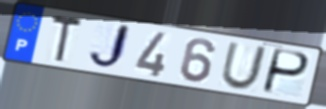4: (132, 30, 168, 78)
6: (177, 37, 219, 84)
J: (86, 22, 134, 72)
P: (259, 47, 312, 97)
T: (50, 13, 85, 65)
U: (218, 41, 270, 92)
